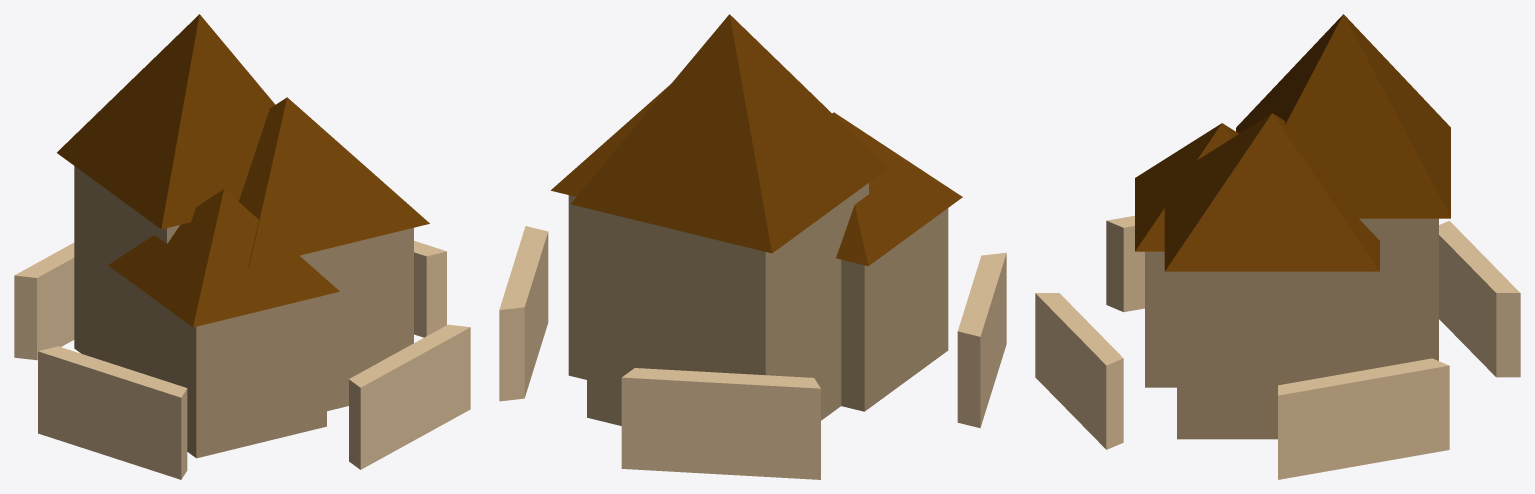
The model's file is ville_peuFortifié.fbx.
3 views of the same model, side by side, from view 1: azimuth 30°, elevation 25°; view 2: azimuth 150°, elevation 25°; view 3: azimuth 270°, elevation 25° (orthographic). The views are drawn at different scales.
Parts seen in each view (by area): view 1: pPyramid1 (×3), pCube1 (×3), pPipe1; view 2: pCube1 (×3), pPyramid1 (×3), pPipe1; view 3: pPyramid1 (×3), pCube1 (×3), pPipe1.
Part boxes in pixels (x1,y1,x2,y2): pPyramid1 (×3): (57, 14, 429, 327); pCube1 (×3): (74, 166, 413, 458); pPipe1: (14, 240, 470, 479); pCube1 (×3): (568, 183, 948, 425); pPyramid1 (×3): (551, 14, 962, 266); pPipe1: (499, 226, 1006, 479); pPyramid1 (×3): (1135, 14, 1450, 271); pCube1 (×3): (1145, 218, 1438, 439); pPipe1: (1035, 215, 1520, 479).
Bounding box in the file's own units: 6.23 × 5.08 × 6.23.
